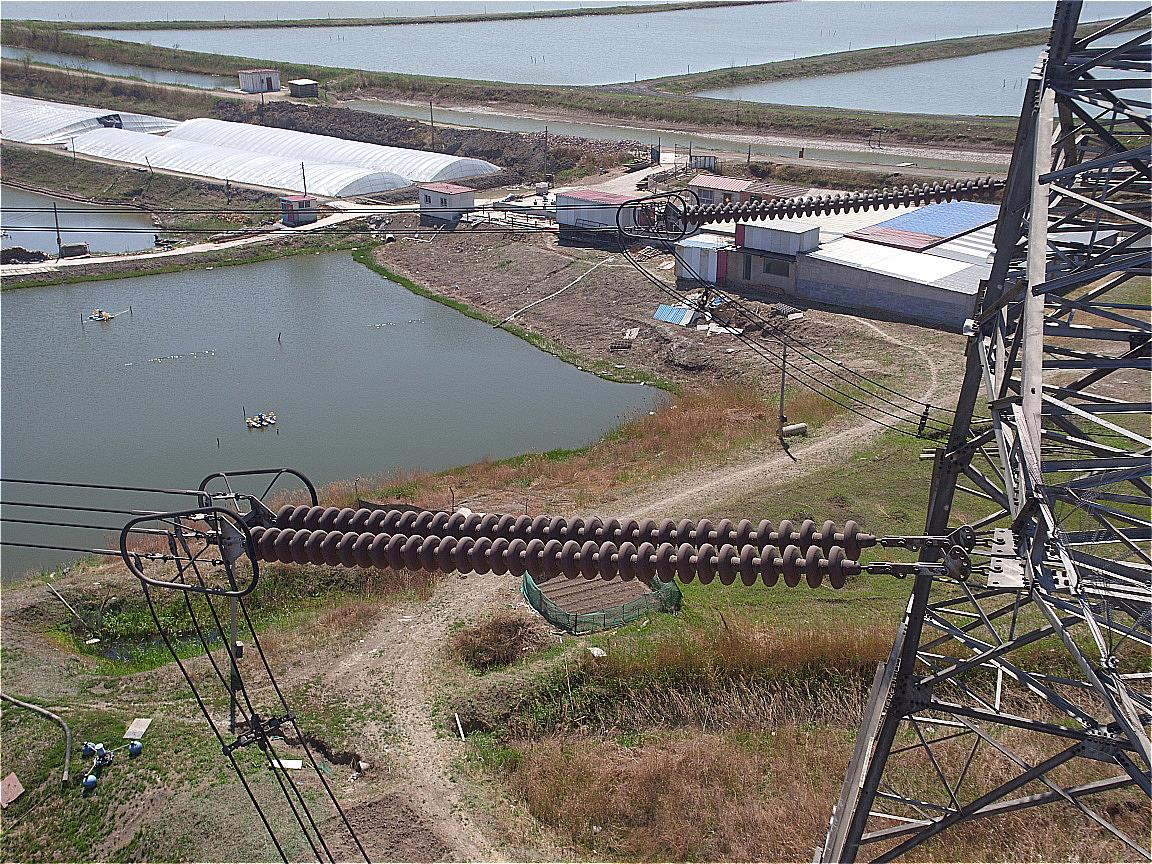insultor1: (248, 502, 865, 590), (681, 174, 997, 224)
